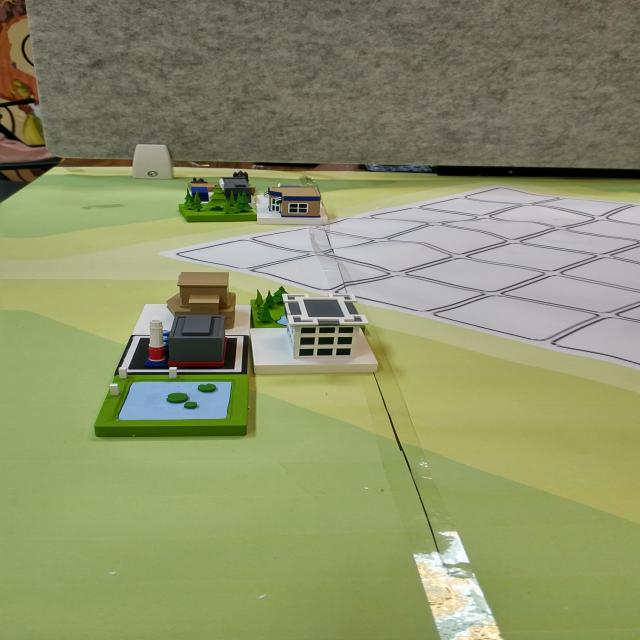factory: (100, 312, 253, 377)
fish_pool: (95, 370, 267, 460)
forest: (168, 184, 273, 230)
research_build: (254, 291, 408, 384)
restaurant: (255, 182, 347, 230)
volunteer_center: (110, 262, 254, 332)
